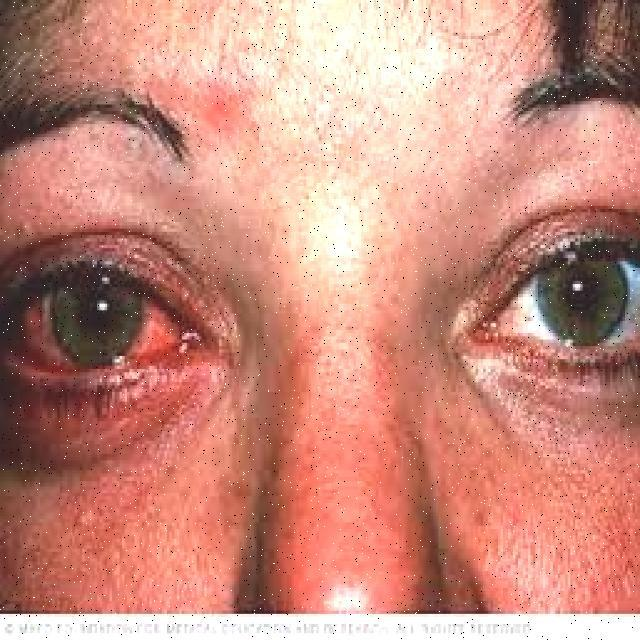Conjunctivitis: (14, 272, 224, 376)
